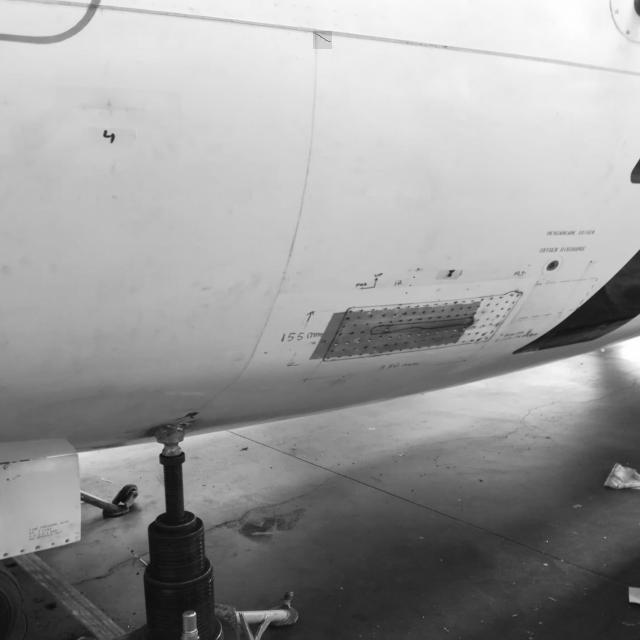crack: (314, 32, 333, 50)
